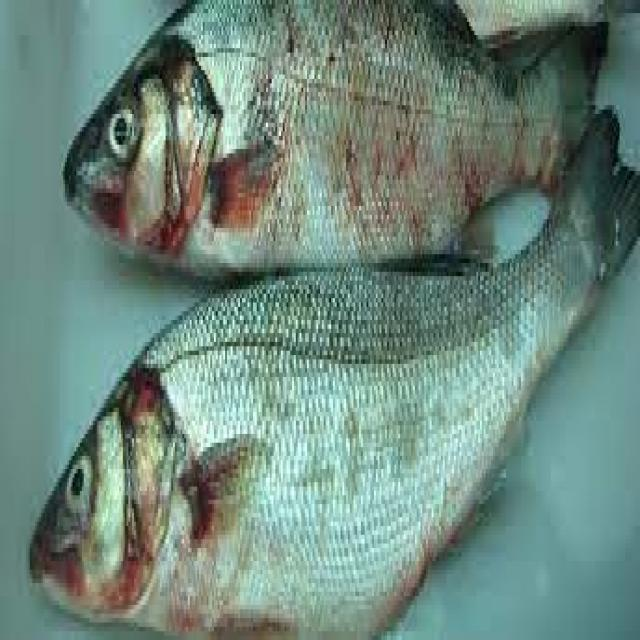EUS Disease: (24, 153, 639, 640), (35, 0, 638, 275), (36, 306, 491, 640), (85, 46, 560, 263)
